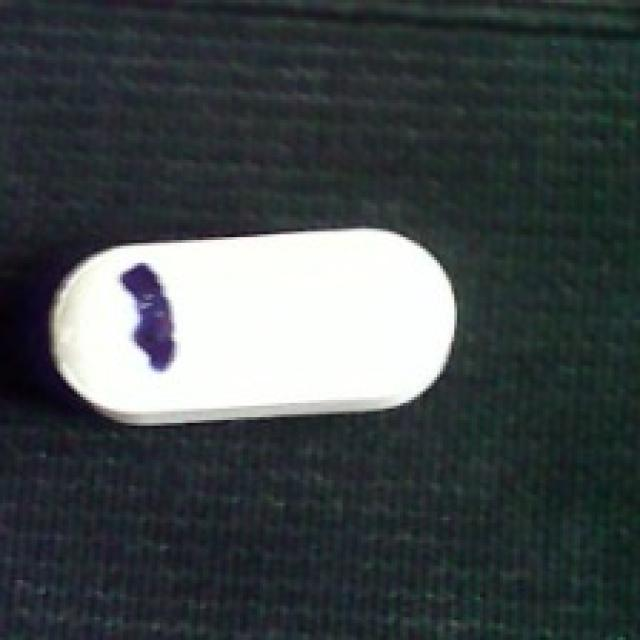defected: (31, 223, 460, 428)
